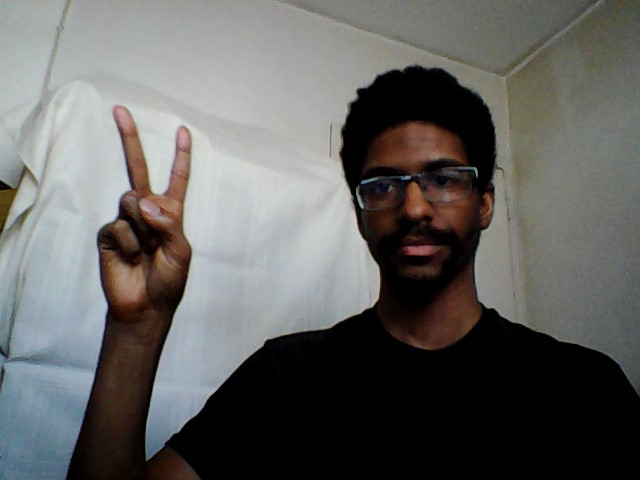v: (90, 97, 199, 314)
